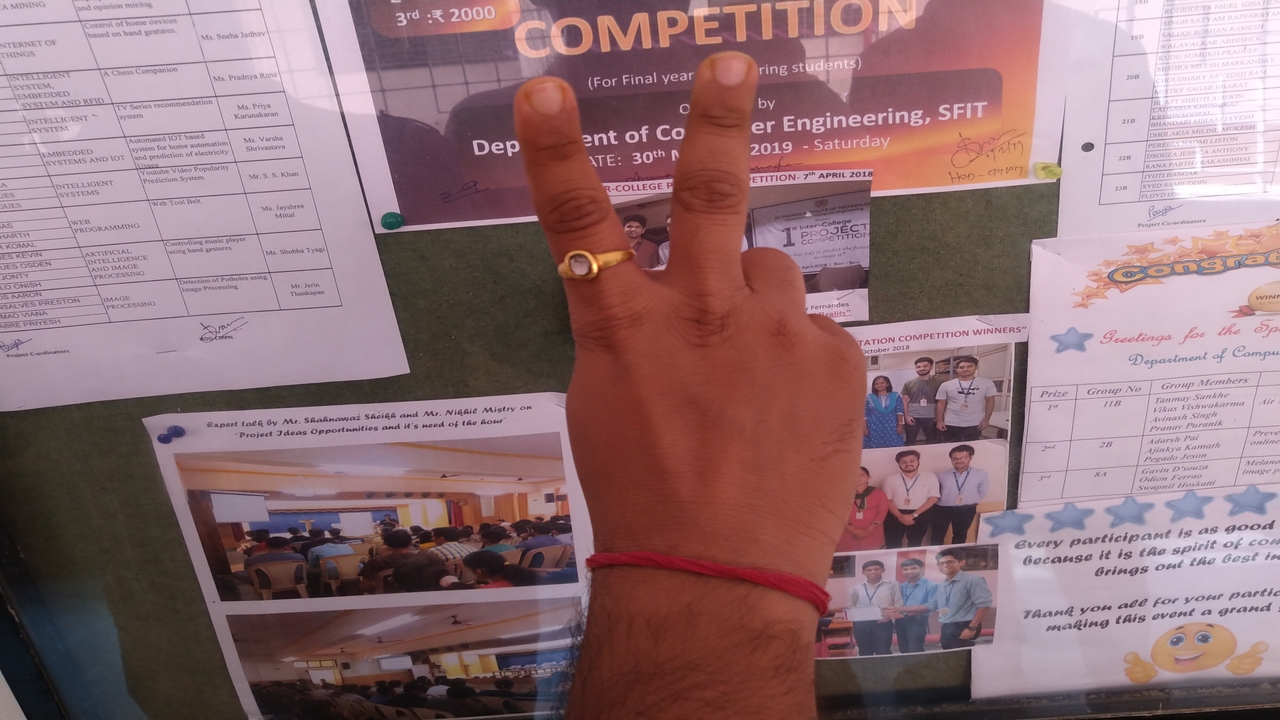fingertip: (512, 68, 580, 134), (696, 46, 760, 108)
